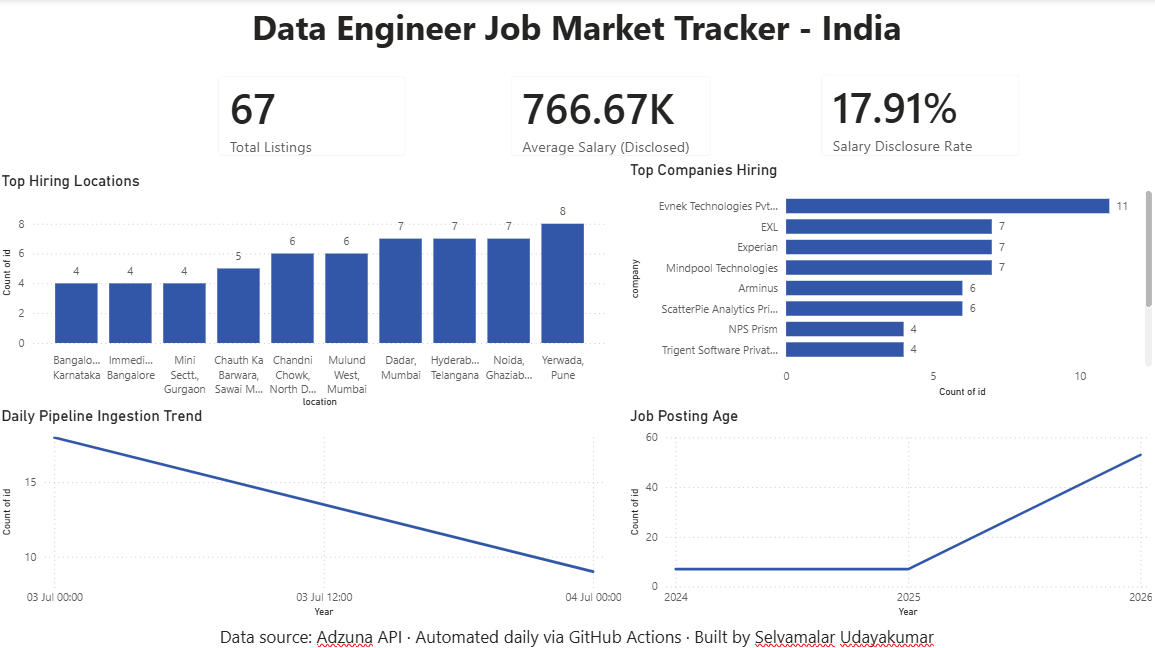

The page's visual inventory and layout, read from the dashboard file:
{"tool":"powerbi","page":{"name":"Page 1","canvas":[1280,720],"ordinal":0},"visuals":[{"type":"cardVisual","fields":{"Data":["public job_listings.Total Listings"]},"box":[226.9,67.9,241.8,122.6],"z":0},{"type":"cardVisual","fields":{"Data":["public job_listings.Salary Disclosure Rate"]},"box":[892.8,66.3,253.4,124.2],"z":1000},{"type":"cardVisual","fields":{"Data":["public job_listings.Average Salary (Disclosed)"]},"box":[550,67.9,255.1,122.6],"z":2000},{"type":"clusteredColumnChart","title":"Top Hiring Locations","fields":{"Category":["public job_listings.location"],"Y":["CountNonNull(public job_listings.id)"]},"box":[0,190.5,677.5,253.4],"z":3000},{"type":"clusteredBarChart","title":"Top Companies Hiring","fields":{"Category":["public job_listings.company"],"Y":["CountNonNull(public job_listings.id)"]},"box":[705.7,178.9,574.8,265],"z":4000},{"type":"lineChart","title":"Daily Pipeline Ingestion Trend","fields":{"Y":["CountNonNull(public job_listings.id)"],"Category":["public job_listings.ingested_at.Variation.Date Hierarchy.Year","public job_listings.ingested_at.Variation.Date Hierarchy.Quarter","public job_listings.ingested_at.Variation.Date Hierarchy.Month","public job_listings.ingested_at.Variation.Date Hierarchy.Day"]},"box":[0,450.6,677.5,236.9],"z":5000},{"type":"lineChart","title":"Job Posting Age","fields":{"Category":["public job_listings.created.Variation.Date Hierarchy.Year","public job_listings.created.Variation.Date Hierarchy.Quarter","public job_listings.created.Variation.Date Hierarchy.Month","public job_listings.created.Variation.Date Hierarchy.Day"],"Y":["CountNonNull(public job_listings.id)"]},"box":[705.7,450.6,574.8,236.9],"z":6000},{"type":"textbox","box":[0,0,1280.5,66.3],"z":7000},{"type":"textbox","box":[0,685.8,1280.5,34.8],"z":7001}]}

Visuals, with their boxes in screenshot pixels (x1, y1, x2, y2), scaled from the page's 1280x720 canvas onto the 1155x648 screenshot:
cardVisual - public job_listings.Total Listings: bbox(205, 61, 423, 171)
cardVisual - public job_listings.Salary Disclosure Rate: bbox(806, 60, 1034, 171)
cardVisual - public job_listings.Average Salary (Disclosed): bbox(496, 61, 726, 171)
"Top Hiring Locations" clusteredColumnChart: bbox(0, 171, 611, 400)
"Top Companies Hiring" clusteredBarChart: bbox(637, 161, 1154, 400)
"Daily Pipeline Ingestion Trend" lineChart: bbox(0, 406, 611, 619)
"Job Posting Age" lineChart: bbox(637, 406, 1154, 619)
textbox: bbox(0, 0, 1154, 60)
textbox: bbox(0, 617, 1154, 647)
